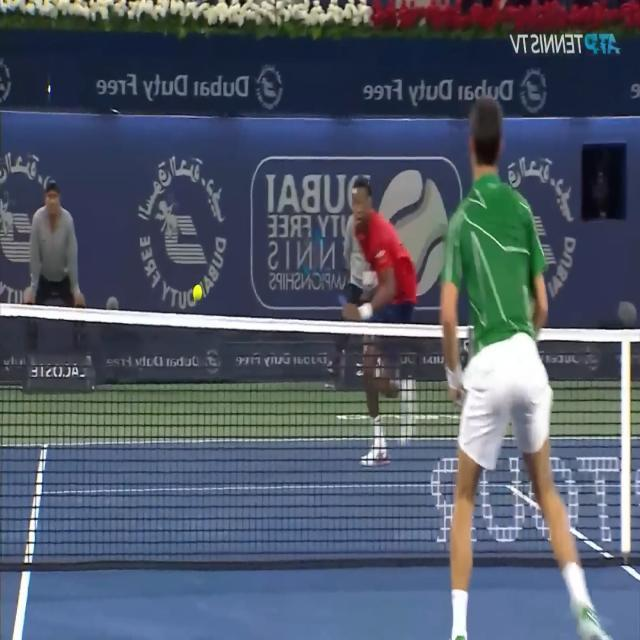player: (439, 93, 604, 640), (340, 172, 420, 472)
